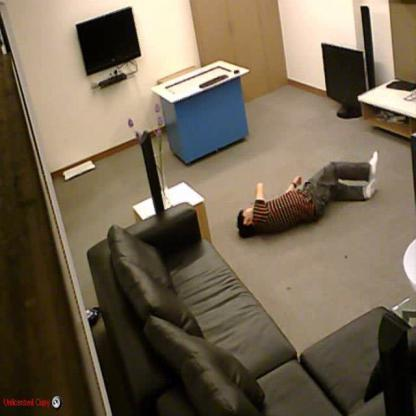Person: (235, 151, 378, 237)
